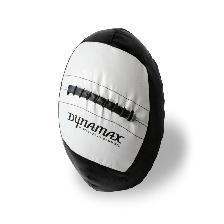Sports-Ball: (54, 28, 171, 198)
